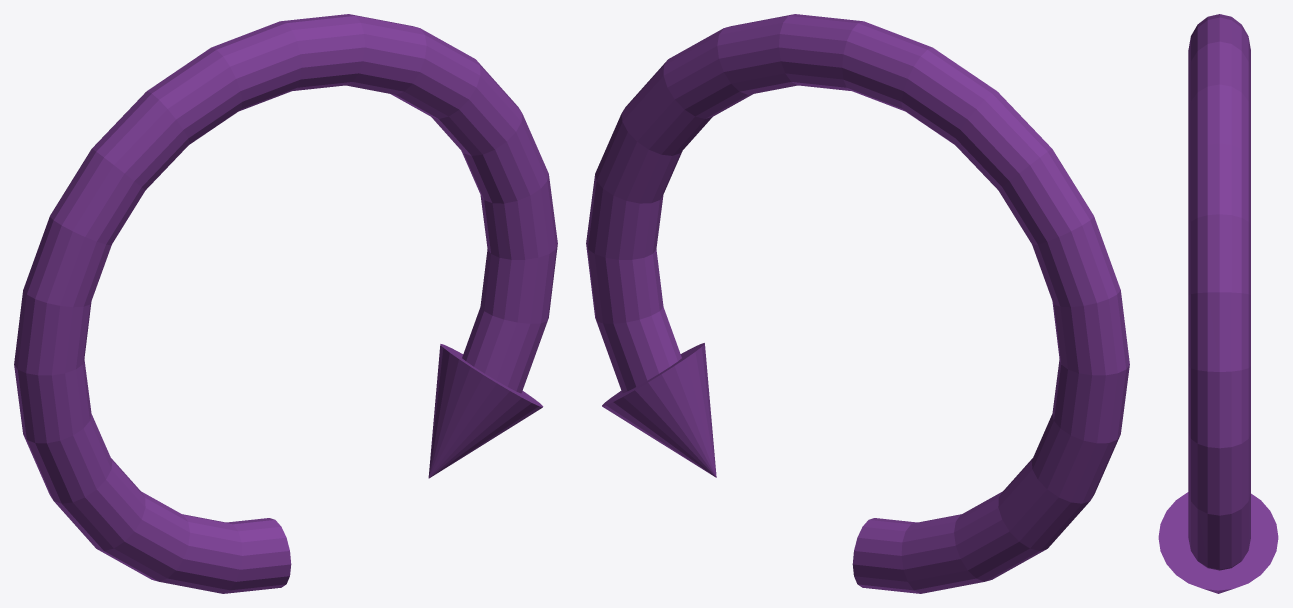
The model's file is tinker.obj.
The picture shows the model from 3 angles, left to right: view 1: azimuth 30°, elevation 25°; view 2: azimuth 150°, elevation 25°; view 3: azimuth 270°, elevation 25°; orthographic projection.
Parts seen in each view (by area): view 1: obj_0; view 2: obj_0; view 3: obj_0.
Boxes of the visible parts, box(x1,y1,x2,y2) form: obj_0: box(14, 14, 557, 593); obj_0: box(586, 14, 1129, 593); obj_0: box(1158, 14, 1278, 593).
Size of the model in its own units: 51 by 50.87 by 10.
